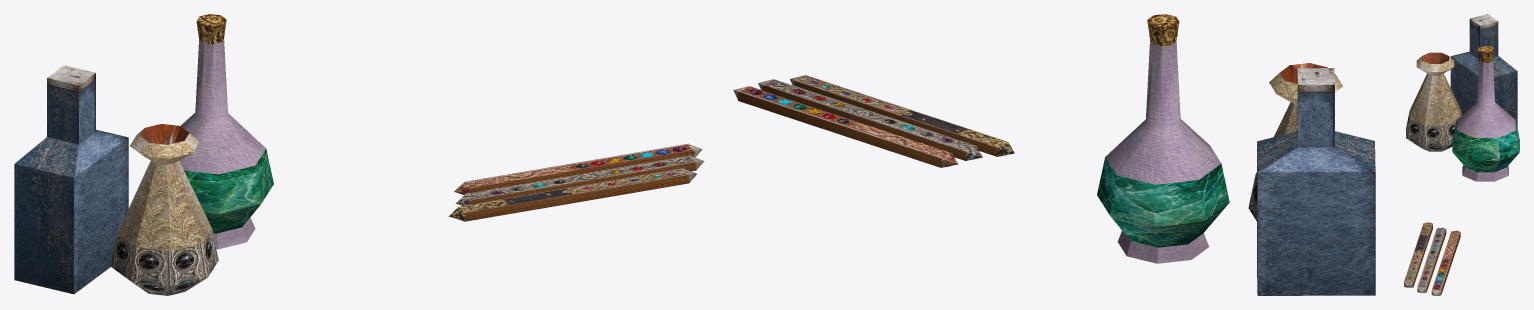
Rendered from mm9_deco_shelfitem03hc.glb.
3 views of the same model, side by side, from view 1: azimuth 30°, elevation 25°; view 2: azimuth 150°, elevation 25°; view 3: azimuth 270°, elevation 25° (orthographic). The views are drawn at different scales.
Parts seen in each view (by area): view 1: Shelfitem03hc; view 2: Shelfitem03hc; view 3: Shelfitem03hc.
Part boxes in pixels (box(x1,y1,x2,y2)): Shelfitem03hc: box(14, 14, 704, 295); Shelfitem03hc: box(733, 14, 1375, 295); Shelfitem03hc: box(1404, 14, 1519, 295).
Bounding box in the file's own units: 1.14 × 0.3556 × 0.3053.
1 material, 1 textured.
